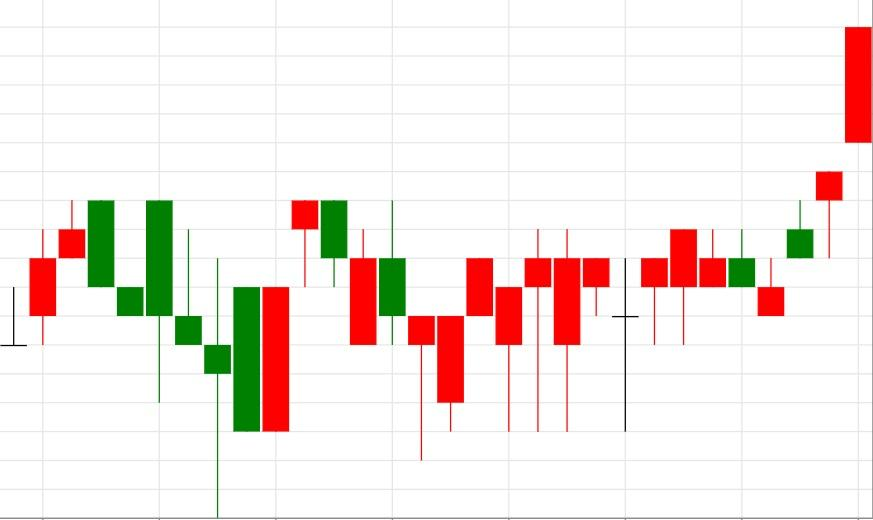bearish_engulfing_fall: (232, 199, 348, 431), (0, 200, 115, 347)
hammer_rise: (291, 199, 436, 461)
